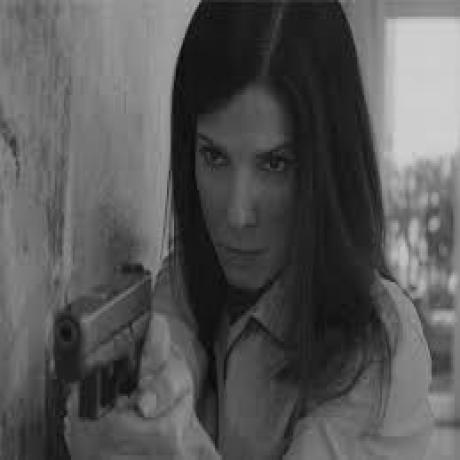Guns: (54, 257, 151, 423)
